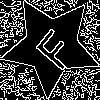F: (26, 21, 80, 74)
